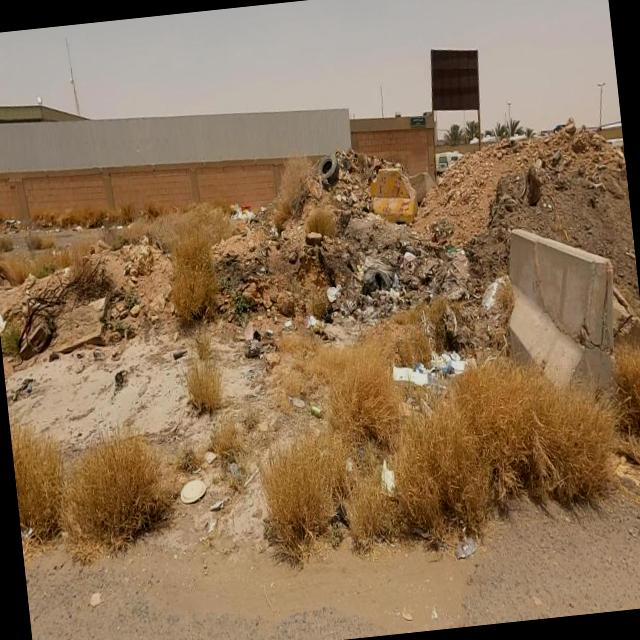debris: (330, 278, 530, 468), (295, 174, 465, 373), (128, 382, 268, 567), (0, 232, 118, 415), (269, 236, 383, 404), (278, 100, 390, 255), (200, 266, 316, 406), (344, 402, 426, 550), (194, 164, 300, 278)
